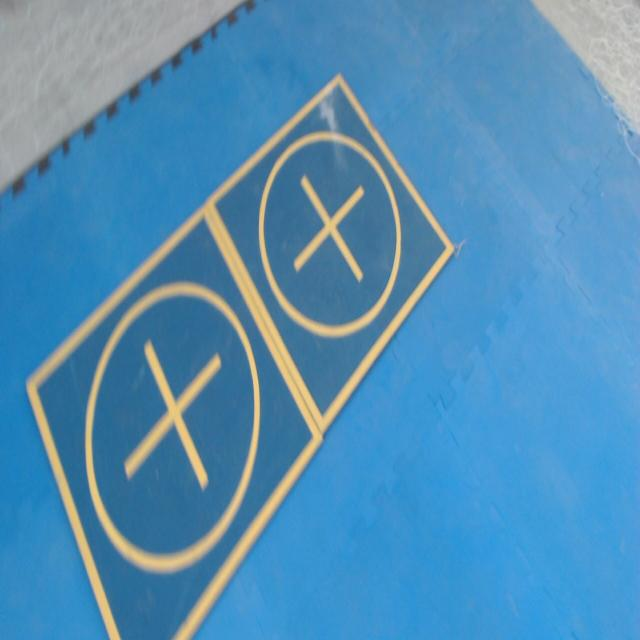base_pouso: (24, 210, 324, 639), (201, 75, 459, 438)
